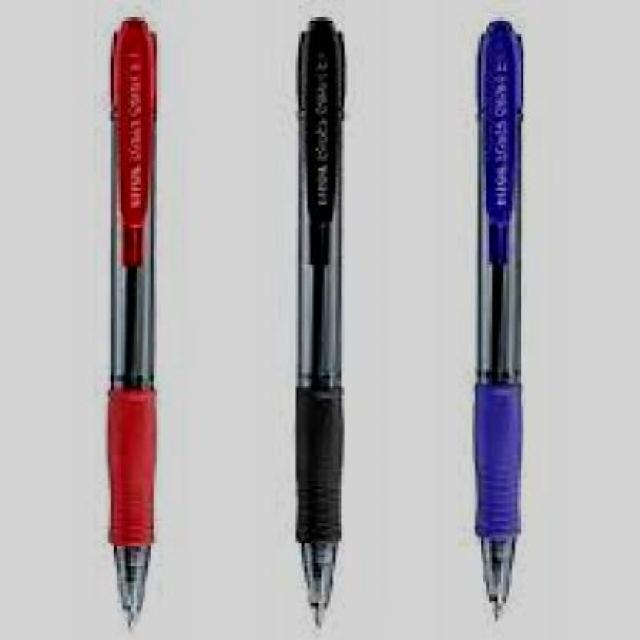pen: (98, 17, 161, 622), (289, 19, 349, 632), (475, 17, 523, 619)
